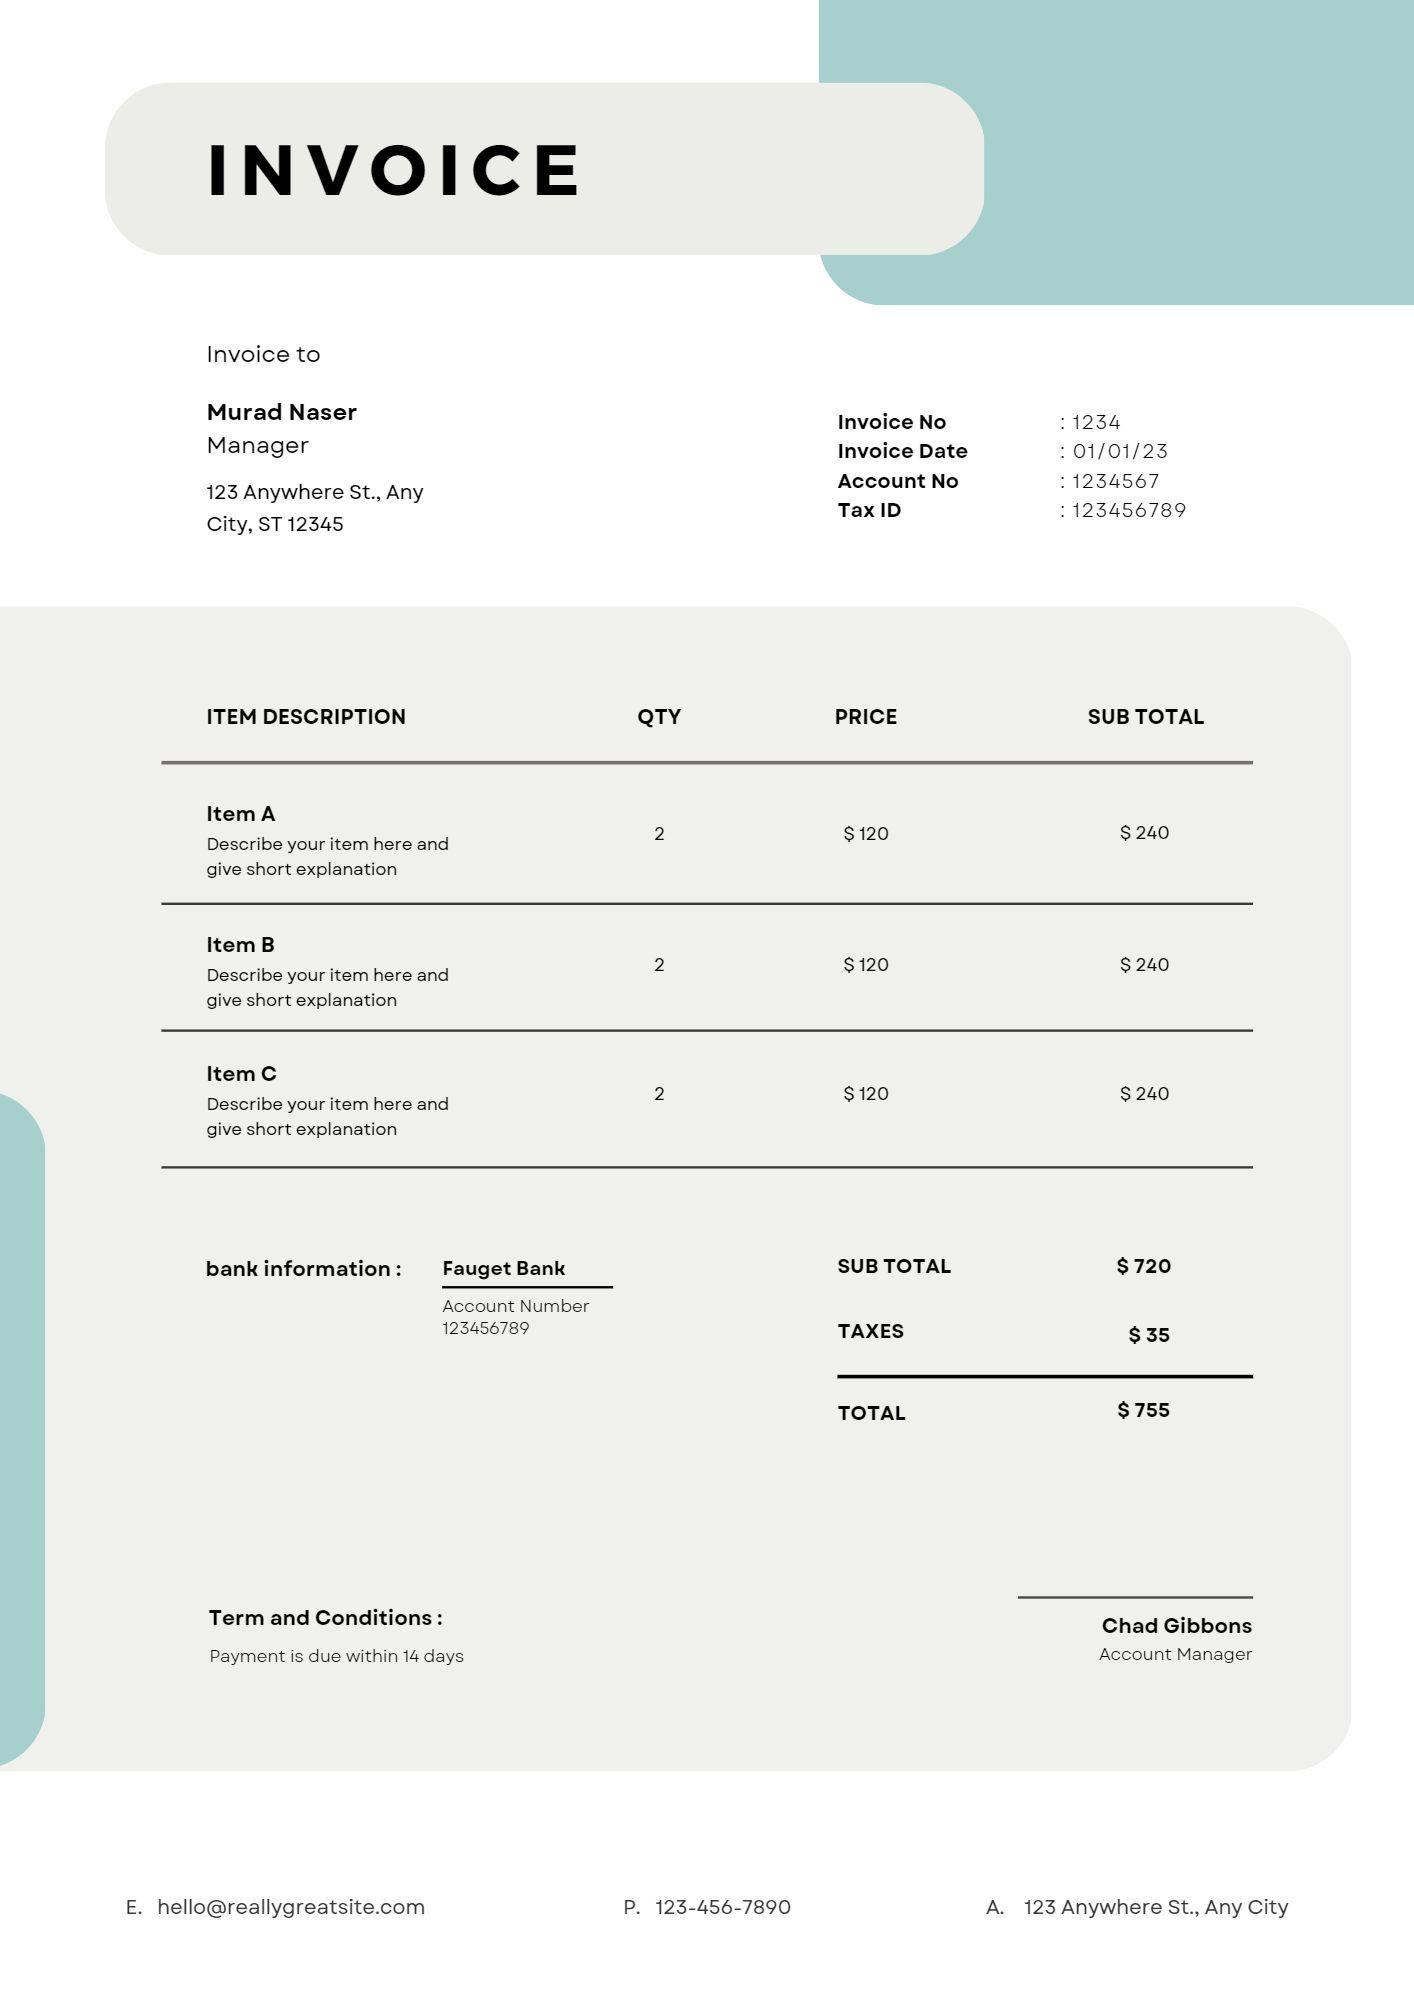ROI: (176, 679, 1243, 1184)
